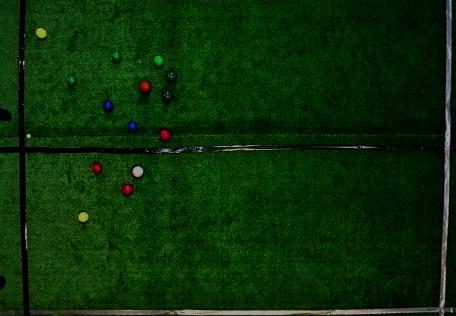blue: (103, 100, 113, 111), (128, 122, 138, 132)
green: (162, 90, 173, 101), (112, 51, 122, 62), (154, 56, 164, 67), (166, 71, 177, 81), (67, 75, 77, 85)
red: (159, 129, 171, 141), (140, 81, 151, 93), (122, 184, 134, 195), (132, 166, 143, 177), (92, 163, 103, 173)
vline: (1, 1, 31, 315), (437, 1, 455, 315)
white: (26, 133, 31, 138)
yellow: (36, 28, 47, 39), (78, 212, 89, 222)
